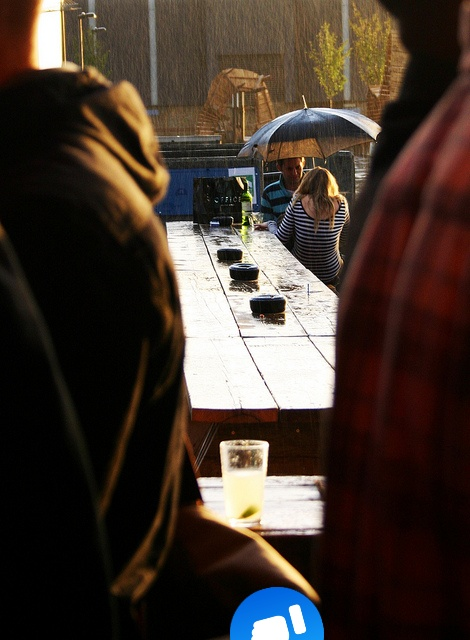like: (230, 587, 324, 640)
